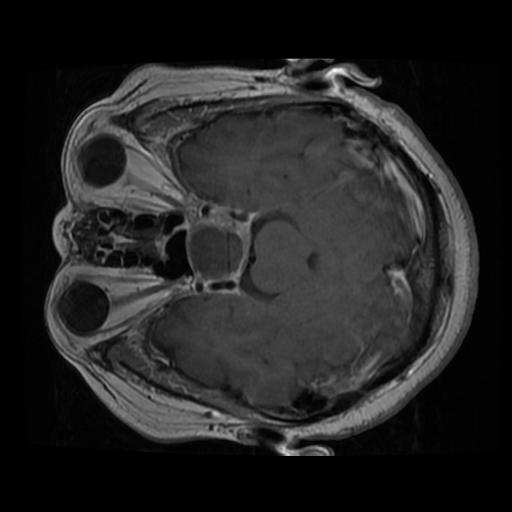pituitary tumour: (184, 215, 251, 286)
